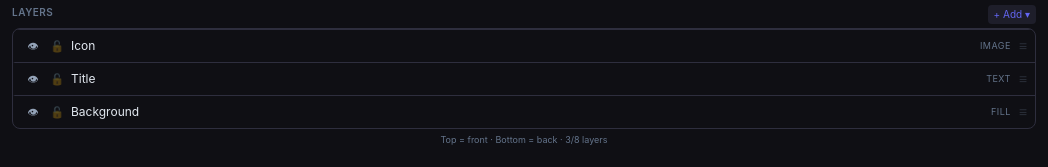
Test: LayerList › add layer menu › should show Plugin Image option when hasPluginAction is true
The image size is (1048, 167).
Click the button "+ Add ▾".
click(1012, 14)  # box [988,5,1036,24]
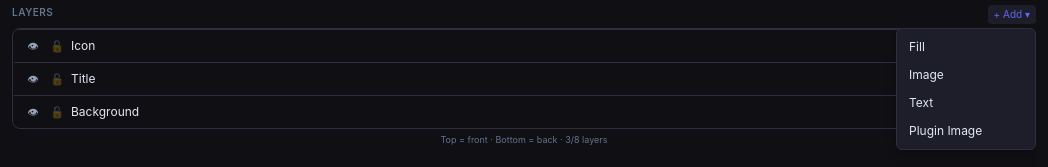
Now the button "Plugin Image" is shown, box [897,117,1035,145]
